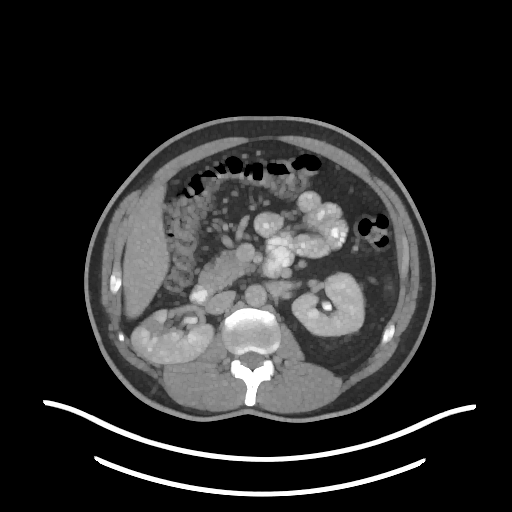Lesion: (141, 315, 167, 338)
